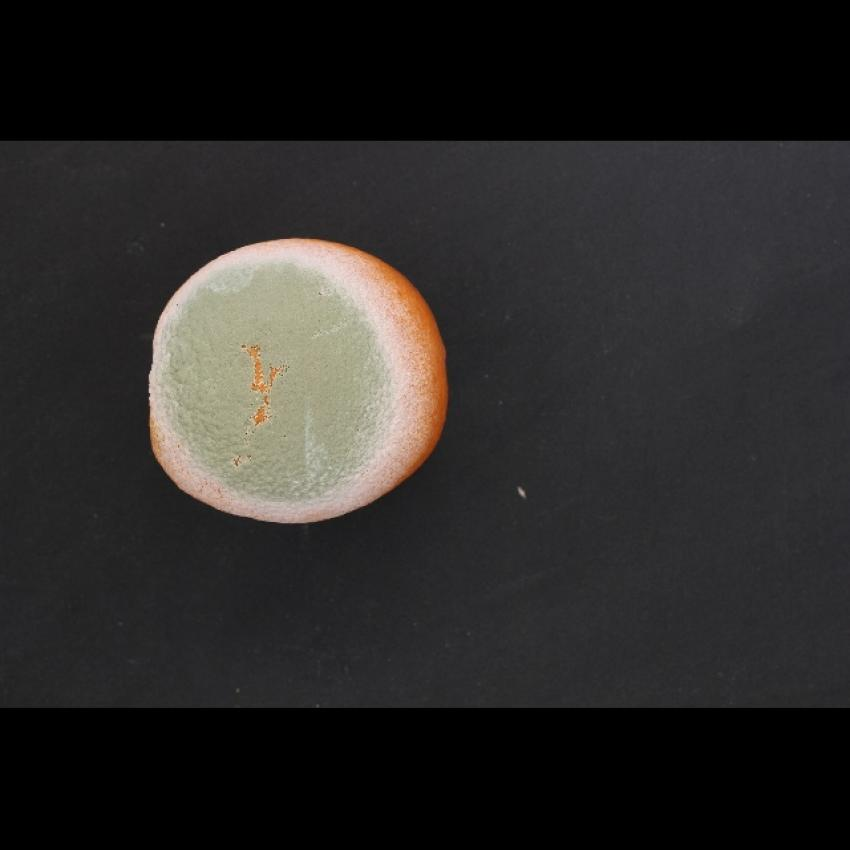Mal estado: (132, 227, 455, 532)
